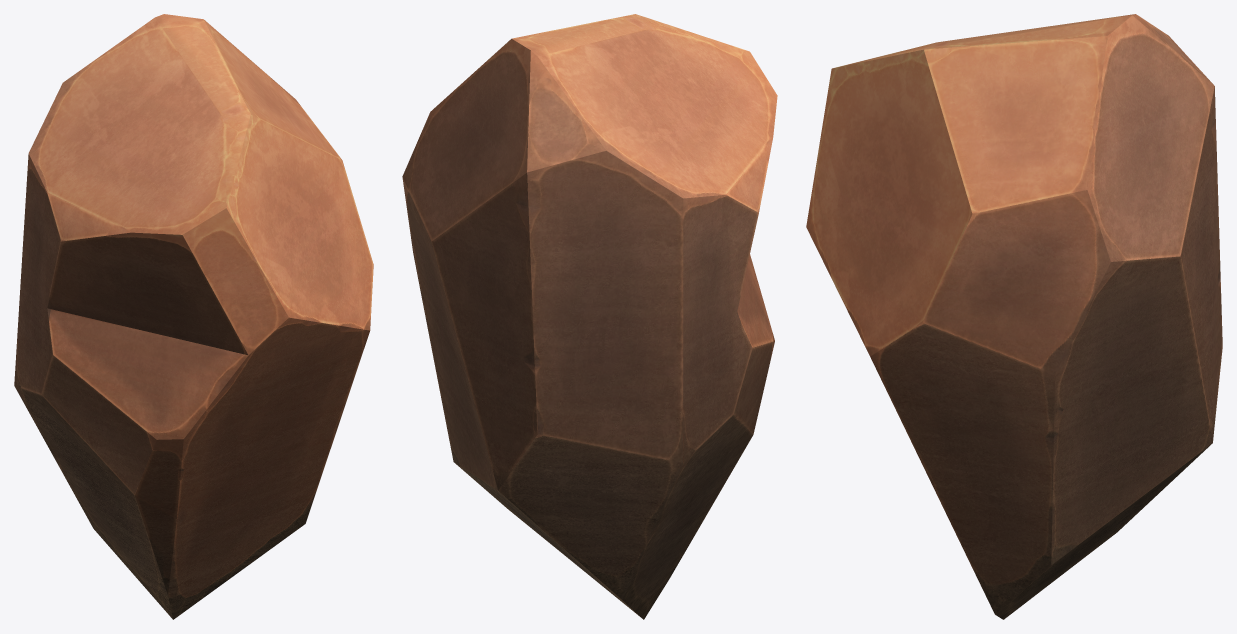
File: L_Rock_01.fbx
3 renders of one model, left to right at view 1: azimuth 30°, elevation 25°; view 2: azimuth 150°, elevation 25°; view 3: azimuth 270°, elevation 25°, orthographic. The views are drawn at different scales.
Visible parts, largest first — view 1: L_Rock_01; view 2: L_Rock_01; view 3: L_Rock_01.
Part boxes in pixels (<box>): L_Rock_01: <box>14,14,373,619</box>; L_Rock_01: <box>402,14,777,619</box>; L_Rock_01: <box>806,14,1222,619</box>.
Bounding box in the file's own units: 148 × 261 × 156.
